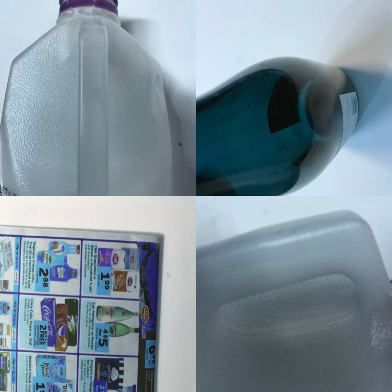glass: (198, 58, 360, 195)
paper: (1, 224, 163, 392)
plastic: (1, 1, 196, 195), (197, 211, 391, 391)
